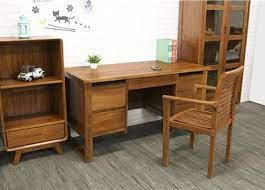desk: (63, 33, 251, 179)
